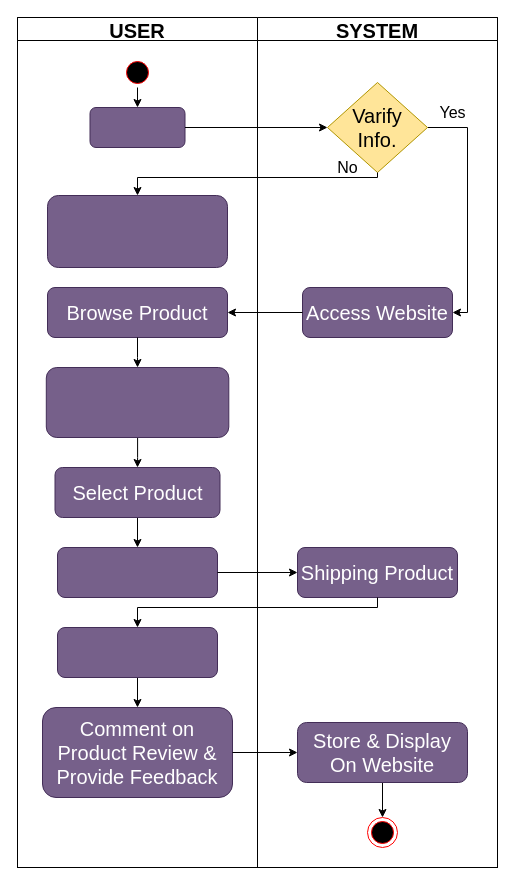
Some shapes in this 515 by 885 pixel diagram are drawn without their labels. The shapes that lost their labels are listed below. From the top down, each one's centre as x and y in pixels, then its label:
At (137,127): "Login".
At (137,231): "Display invalid username or password".
At (137,402): "View Other Customer Review Rating & Feedback".
At (137,572): "Buy Product".
At (137,652): "Received Product".
